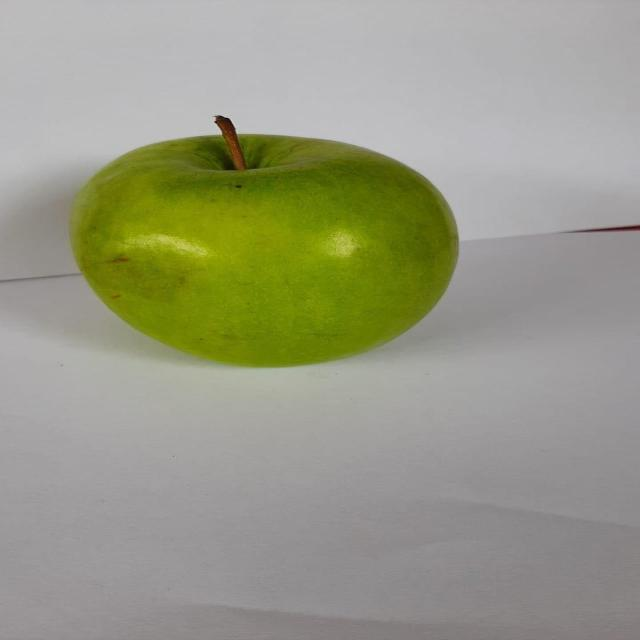Rotten Apple: (48, 114, 475, 372)
